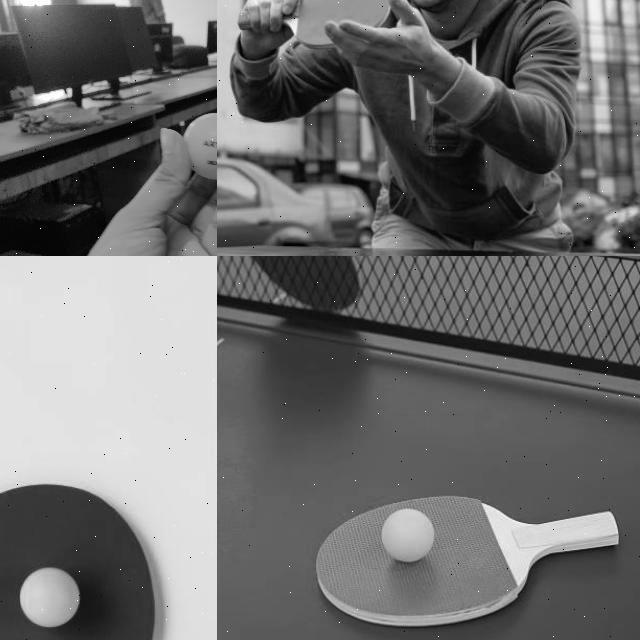ping-pong-ball: (22, 566, 78, 626), (382, 510, 434, 562), (184, 113, 216, 180)
